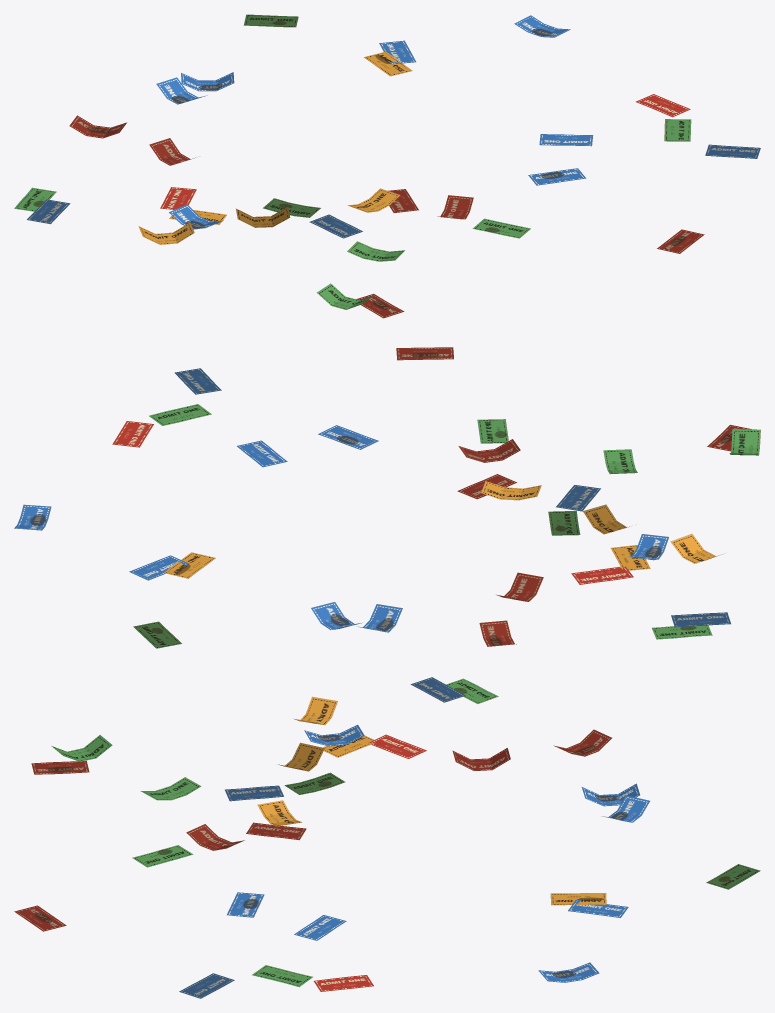
Rendered from ticket_litter.glb.
3 renders of one model, top to bottom at view 1: azimuth 30°, elevation 25°; view 2: azimuth 150°, elevation 25°; view 3: azimuth 270°, elevation 25°, orthographic. The views are drawn at different scales.
Visible parts, largest first — view 1: tickets; view 2: tickets; view 3: tickets.
Part boxes in pixels (left/top/right/bottom): tickets: left=14, top=14, right=760, bottom=318; tickets: left=14, top=347, right=760, bottom=648; tickets: left=14, top=677, right=760, bottom=998.
Size of the model in its own units: 1.51 by 0.025 by 1.48.
1 material, 1 textured.
